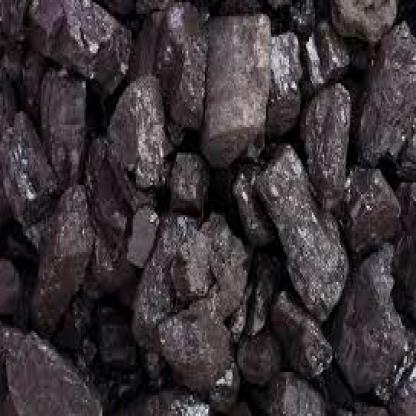Sedimentary_coal: (252, 134, 338, 305), (2, 300, 81, 414), (89, 83, 162, 199), (202, 32, 268, 160), (353, 46, 408, 199), (144, 236, 203, 370)
